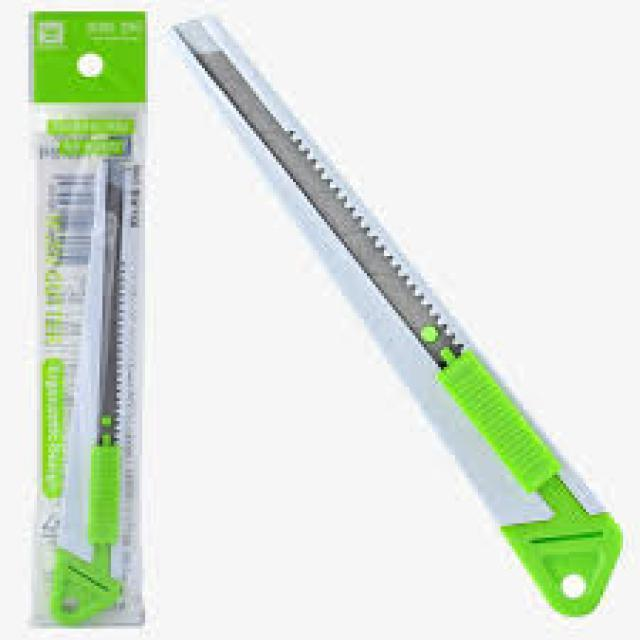cutter: (156, 6, 629, 626)
